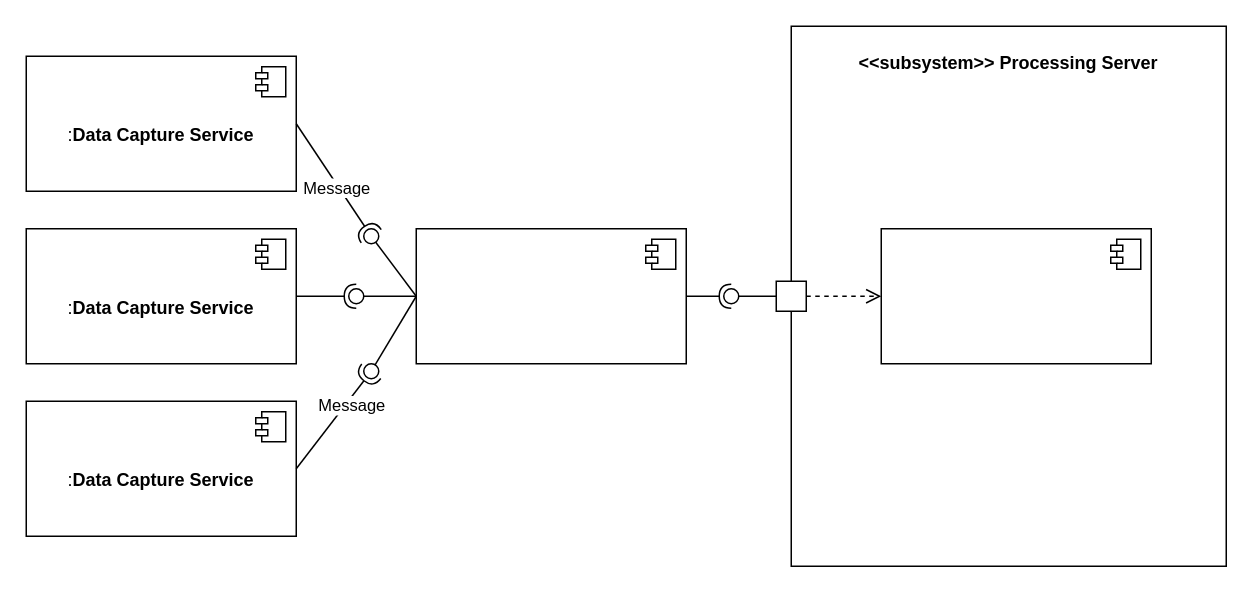
Some shapes in this 1253 by 593 pixel diagram are drawn without their labels. The centre of each missing label's shape, as x and y in pixels:
": Message Queue" goes at [550,295].
": Processing Service" goes at [1015,295].
